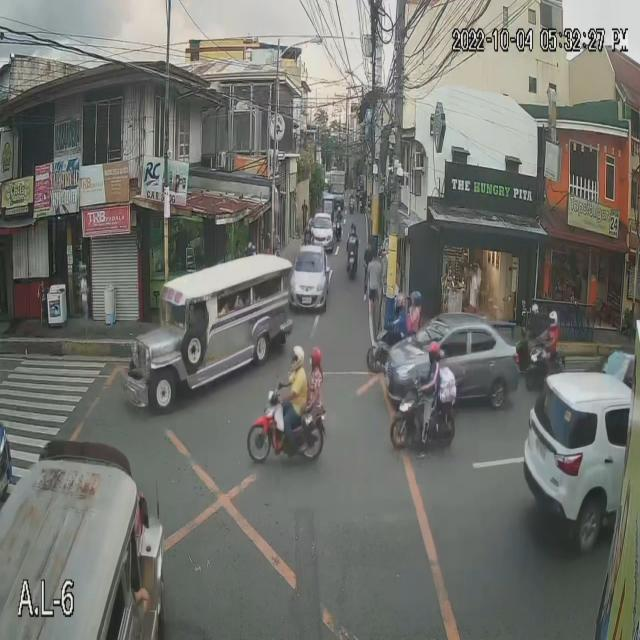Full-Faced: (286, 338, 304, 379), (423, 339, 444, 370), (405, 287, 423, 312), (391, 291, 406, 314), (348, 218, 362, 238), (548, 310, 560, 326), (335, 202, 341, 214)
Half-Faced: (304, 343, 322, 372)
